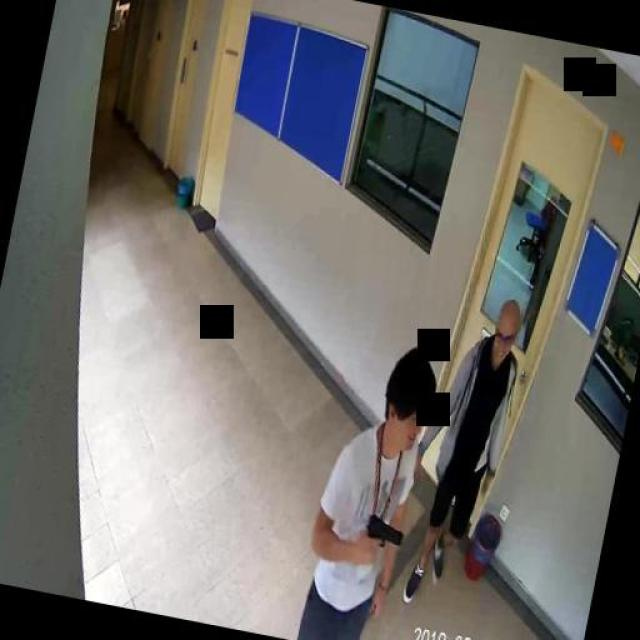gun: (360, 512, 404, 566)
